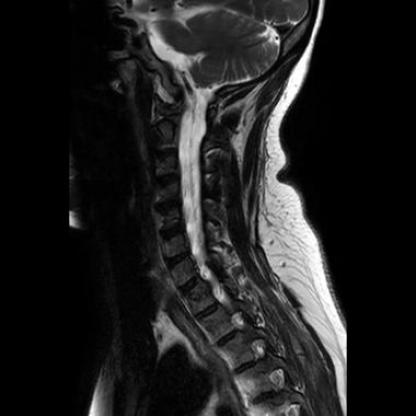Disc Bulgerotation: (157, 224, 188, 241), (154, 198, 184, 215), (164, 252, 193, 269), (151, 173, 181, 187)
